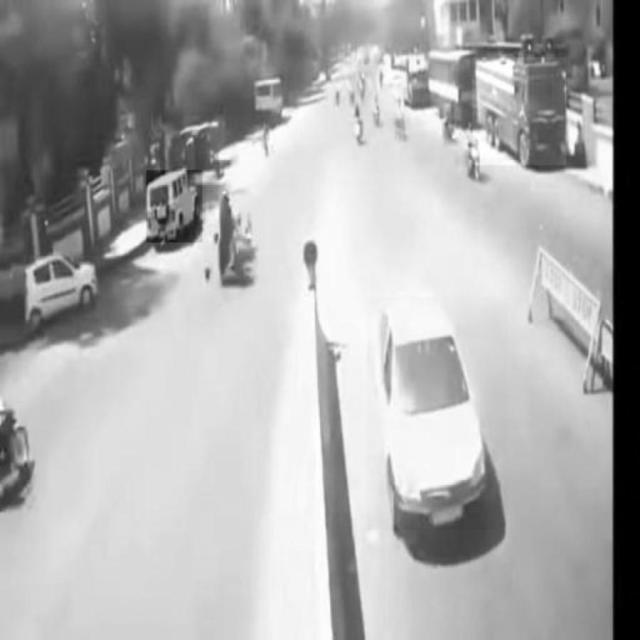accident: (205, 192, 269, 282)
vehicle: (366, 297, 507, 530), (473, 57, 566, 165), (25, 257, 99, 319), (146, 170, 202, 243)
